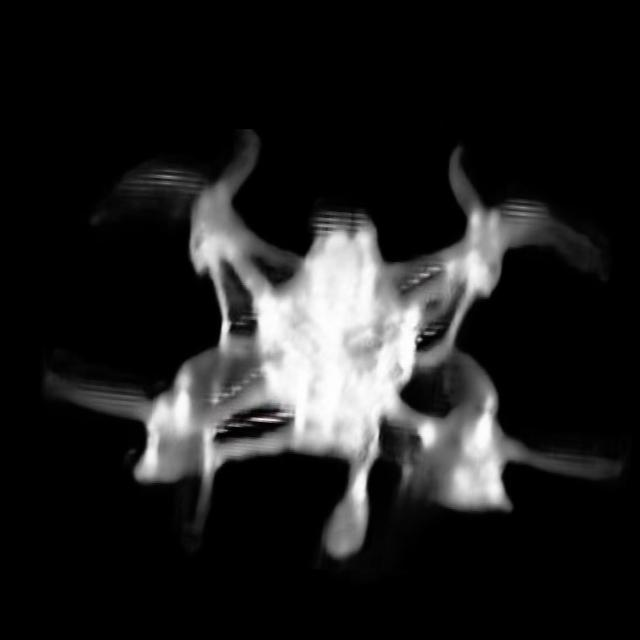drone: (39, 129, 640, 570)
